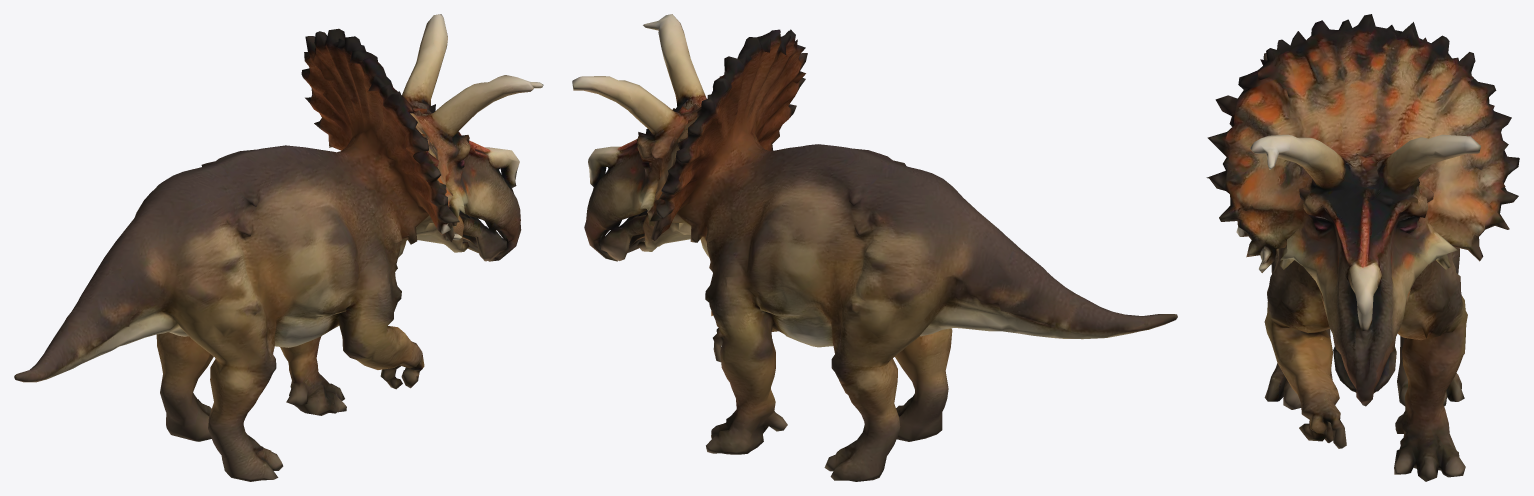
File: trike.glb
3 renders of one model, left to right at view 1: azimuth 30°, elevation 25°; view 2: azimuth 150°, elevation 25°; view 3: azimuth 270°, elevation 25°, orthographic. The views are drawn at different scales.
Visible parts, largest first — view 1: tripo_node_9d82277e-b3cb-44dc-912d-506e50f8da56; view 2: tripo_node_9d82277e-b3cb-44dc-912d-506e50f8da56; view 3: tripo_node_9d82277e-b3cb-44dc-912d-506e50f8da56.
Part boxes in pixels (box(x1,y1,x2,y2)): tripo_node_9d82277e-b3cb-44dc-912d-506e50f8da56: box(14, 14, 543, 481); tripo_node_9d82277e-b3cb-44dc-912d-506e50f8da56: box(572, 14, 1177, 481); tripo_node_9d82277e-b3cb-44dc-912d-506e50f8da56: box(1206, 14, 1519, 481).
Size of the model in its own units: 1 by 0.6757 by 0.4194.
Materials: 1 (1 with a texture image).
